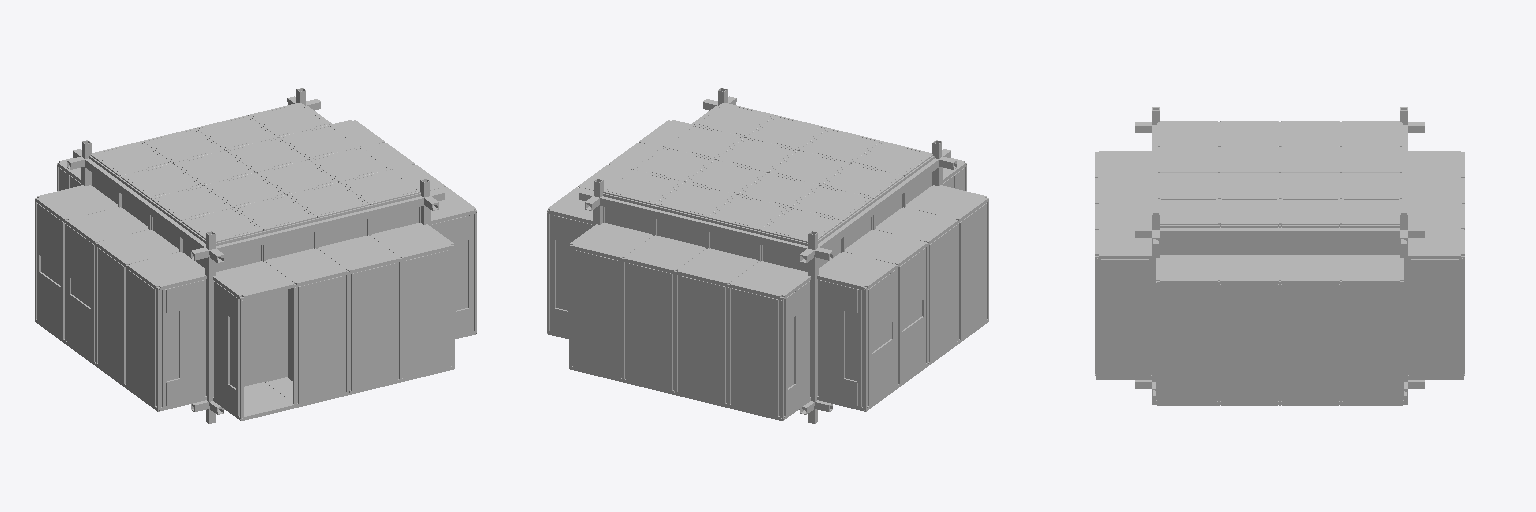
The picture shows the model from 3 angles: view 1: azimuth 30°, elevation 25°; view 2: azimuth 150°, elevation 25°; view 3: azimuth 270°, elevation 25°; orthographic projection.
Visible parts, largest first — view 1: Mesh93 m1_7 panel4 Model, Mesh78 m1_5 panel3 Model, Mesh109 m1_9 panel5 Model, Mesh266 m1_19 panel10 Model, Mesh440 m1_29 panel15 Model, Mesh202 m1_2_9 panel_2_5 Model, Mesh2 Group2 vig_15_1 Model, Mesh76 Group66 pisoesq1_3 Model, Mesh200 Group108 pisoesq2_3 Model, Mesh362 Group190 panel_4_1 Model, Mesh487 Group275 pisoesq2_8 Model, Mesh384 Group200 pisoesq1_5 Model (+28 smaller); view 2: Mesh150 m1_13 panel7 Model, Mesh380 m1_25 panel13 Model, Mesh70 m1_1 panel1 Model, Mesh269 m1_21 panel11 Model, Mesh440 m1_29 panel15 Model, Mesh266 m1_19 panel10 Model, Mesh226 m1_2_11 panel_2_6 Model, Mesh39 Group37 vig_15_4 Model, Mesh355 Group185 pisoesq2_5 Model, Mesh384 Group200 pisoesq1_5 Model, Mesh365 Group191 pisoesq1_4 Model, Mesh200 Group108 pisoesq2_3 Model (+28 smaller); view 3: Mesh74 m1_3 panel2 Model, Mesh155 m1_15 panel8 Model, Mesh243 m1_17 panel9 Model, Mesh314 m1_23 panel12 Model, Mesh114 m1_2_3 panel_2_2 Model, Mesh299 m1_2_13 panel_2_7 Model, Mesh7 Group7 vig_15_2 Model, Mesh337 Group177 pisoesq2_4 Model, Mesh386 Group202 pisoesq1_6 Model, Mesh351 Group182 piso_1_7 Model, Mesh442 Group239 piso_1_10 Model, Mesh259 Group134 piso4 Model (+28 smaller).
Part boxes in pixels (x1,y1,x2,y2): Mesh93 m1_7 panel4 Model: (402,249,451,377); Mesh78 m1_5 panel3 Model: (349,262,398,390); Mesh109 m1_9 panel5 Model: (297,275,345,403); Mesh266 m1_19 panel10 Model: (128,270,156,405); Mesh440 m1_29 panel15 Model: (98,248,125,383); Mesh202 m1_2_9 panel_2_5 Model: (181,280,205,402); Mesh2 Group2 vig_15_1 Model: (216,196,423,253); Mesh76 Group66 pisoesq1_3 Model: (213,261,293,297); Mesh200 Group108 pisoesq2_3 Model: (127,252,206,287); Mesh362 Group190 panel_4_1 Model: (244,295,263,386); Mesh487 Group275 pisoesq2_8 Model: (371,223,453,258); Mesh384 Group200 pisoesq1_5 Model: (36,185,117,220); Mesh150 m1_13 panel7 Model: (572,249,621,377); Mesh380 m1_25 panel13 Model: (625,262,674,390); Mesh70 m1_1 panel1 Model: (678,275,726,403); Mesh269 m1_21 panel11 Model: (731,288,779,416); Mesh440 m1_29 panel15 Model: (928,225,956,361); Mesh266 m1_19 panel10 Model: (959,203,986,339); Mesh226 m1_2_11 panel_2_6 Model: (818,280,842,402); Mesh39 Group37 vig_15_4 Model: (600,196,807,253); Mesh355 Group185 pisoesq2_5 Model: (730,261,810,297); Mesh384 Group200 pisoesq1_5 Model: (817,252,896,287); Mesh365 Group191 pisoesq1_4 Model: (570,223,652,258); Mesh200 Group108 pisoesq2_3 Model: (906,185,987,220); Mesh74 m1_3 panel2 Model: (1343,285,1399,401); Mesh155 m1_15 panel8 Model: (1282,285,1338,401); Mesh243 m1_17 panel9 Model: (1160,285,1216,401); Mesh314 m1_23 panel12 Model: (1221,285,1277,401); Mesh114 m1_2_3 panel_2_2 Model: (1409,259,1437,376); Mesh299 m1_2_13 panel_2_7 Model: (1122,259,1150,376); Mesh7 Group7 vig_15_2 Model: (1160,227,1399,237); Mesh337 Group177 pisoesq2_4 Model: (1341,255,1403,282); Mesh386 Group202 pisoesq1_6 Model: (1156,255,1218,282); Mesh351 Group182 piso_1_7 Model: (1219,255,1279,282); Mesh442 Group239 piso_1_10 Model: (1280,255,1340,282); Mesh259 Group134 piso4 Model: (1219,198,1279,224).
Size of the model in its own units: 6525 by 3680 by 6525.